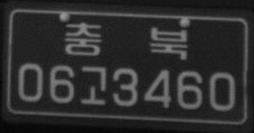0: (208, 70, 236, 112), (17, 62, 43, 102)
3: (112, 67, 138, 106)
4: (143, 69, 172, 108)
6: (176, 70, 203, 109), (49, 64, 74, 103)
고: (80, 65, 107, 104)
충북_D: (64, 21, 189, 61)
